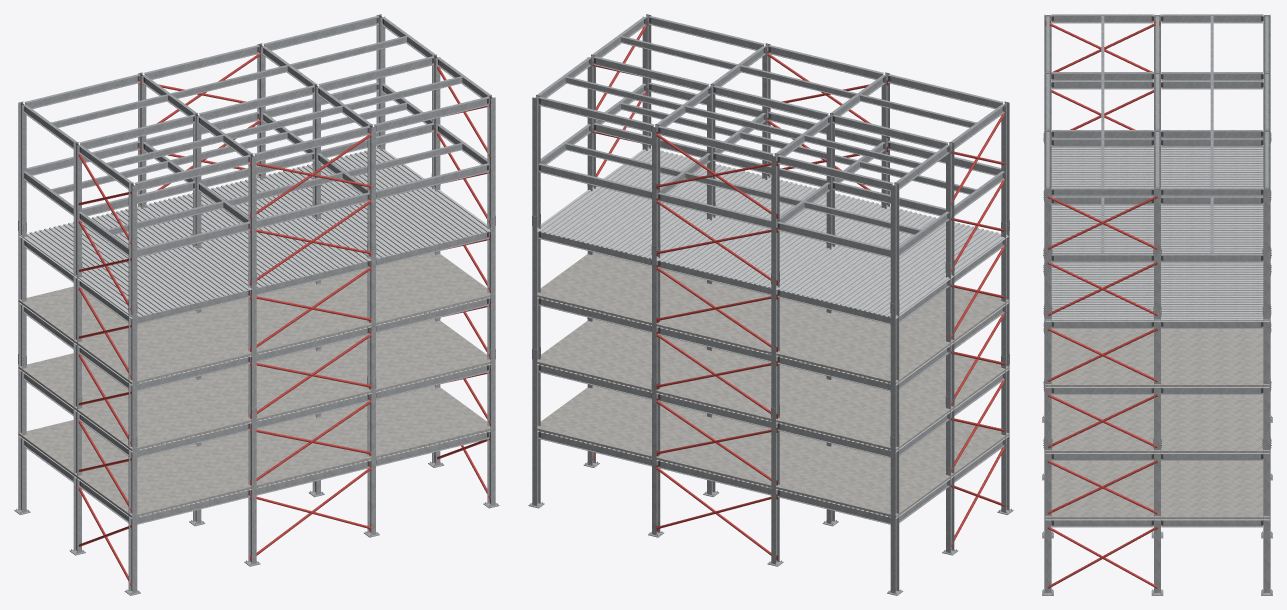
Rendered from multi-storey-steel-building.glb.
3 renders of one model, left to right at view 1: azimuth 30°, elevation 25°; view 2: azimuth 150°, elevation 25°; view 3: azimuth 270°, elevation 25°, orthographic.
Parts seen in each view (by area): view 1: ConcreteSlab, PrimaryBeams, MetalDeck, Columns, VerticalBracing, SecondaryBeams, ColumnSplices, BoltedConnections; view 2: ConcreteSlab, PrimaryBeams, MetalDeck, Columns, SecondaryBeams, VerticalBracing, ColumnSplices, BoltedConnections; view 3: ConcreteSlab, MetalDeck, PrimaryBeams, Columns, VerticalBracing, SecondaryBeams, BoltedConnections, ColumnSplices, BasePlates&Anchors.
Part boxes in pixels (left/top/right/bottom): ConcreteSlab: left=18, top=252, right=490, bottom=517; PrimaryBeams: left=23, top=16, right=490, bottom=524; MetalDeck: left=19, top=147, right=490, bottom=518; Columns: left=18, top=14, right=495, bottom=593; VerticalBracing: left=76, top=51, right=490, bottom=586; SecondaryBeams: left=51, top=36, right=462, bottom=234; ColumnSplices: left=18, top=133, right=495, bottom=447; BoltedConnections: left=23, top=18, right=495, bottom=495; ConcreteSlab: left=537, top=252, right=1009, bottom=517; PrimaryBeams: left=537, top=16, right=1004, bottom=524; MetalDeck: left=537, top=147, right=1008, bottom=518; Columns: left=532, top=14, right=1009, bottom=593; SecondaryBeams: left=565, top=36, right=976, bottom=234; VerticalBracing: left=592, top=21, right=1006, bottom=560; ColumnSplices: left=532, top=133, right=1009, bottom=447; BoltedConnections: left=532, top=18, right=1004, bottom=495; ConcreteSlab: left=1045, top=327, right=1269, bottom=519; MetalDeck: left=1045, top=146, right=1269, bottom=520; PrimaryBeams: left=1046, top=14, right=1268, bottom=527; Columns: left=1044, top=14, right=1270, bottom=593; VerticalBracing: left=1045, top=21, right=1160, bottom=588; SecondaryBeams: left=1101, top=16, right=1213, bottom=253; BoltedConnections: left=1043, top=16, right=1271, bottom=525; ColumnSplices: left=1044, top=131, right=1270, bottom=448; BasePlates&Anchors: left=1042, top=415, right=1272, bottom=595.
Size of the model in its own units: 23.15 by 24.5 by 12.65.
Materials: 5 (5 with a texture image).
